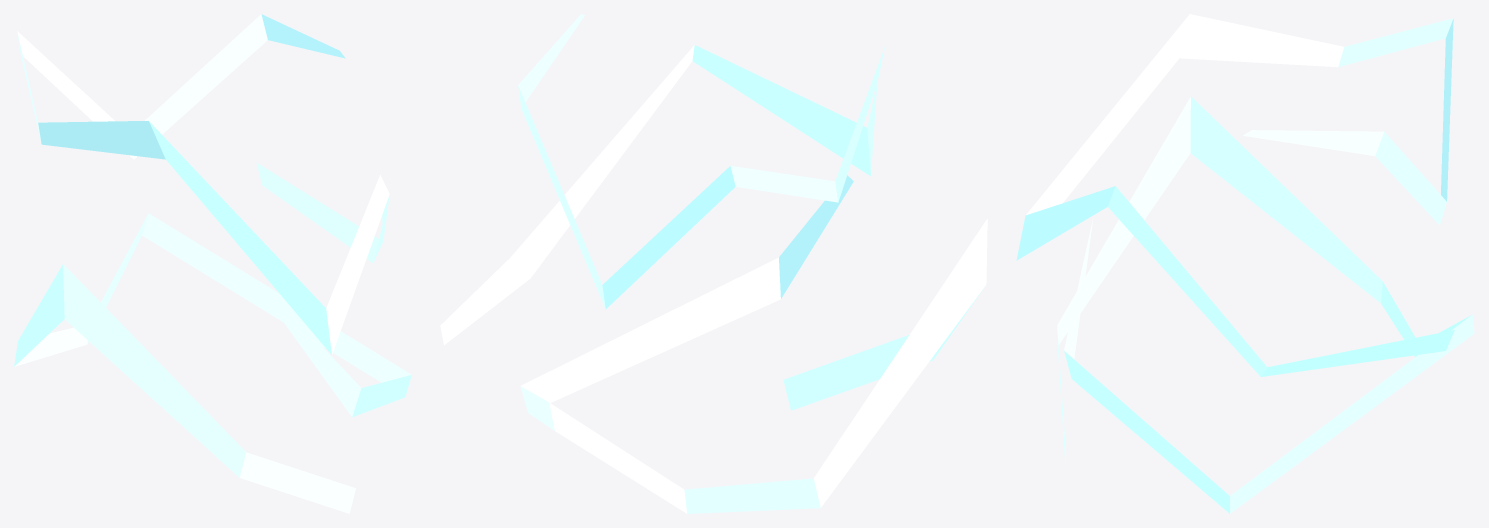
File: ghost_electric.glb
3 views of the same model, side by side, from view 1: azimuth 30°, elevation 25°; view 2: azimuth 150°, elevation 25°; view 3: azimuth 270°, elevation 25° (orthographic). The views are drawn at different scales.
Parts seen in each view (by area): view 1: electric; view 2: electric; view 3: electric.
Boxes of the visible parts, x1=… form: electric: x1=14, y1=14, x2=411, y2=513; electric: x1=440, y1=14, x2=987, y2=513; electric: x1=1016, y1=14, x2=1474, y2=513.
Size of the model in its own units: 1.67 by 1.66 by 1.78.
